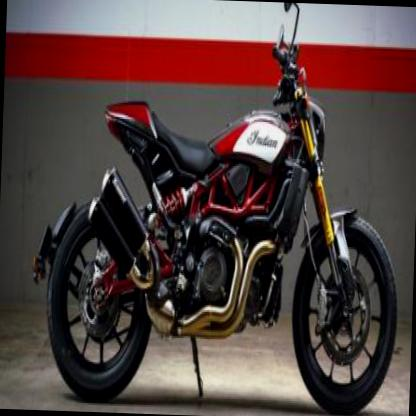motorcycle: (29, 0, 410, 415)
